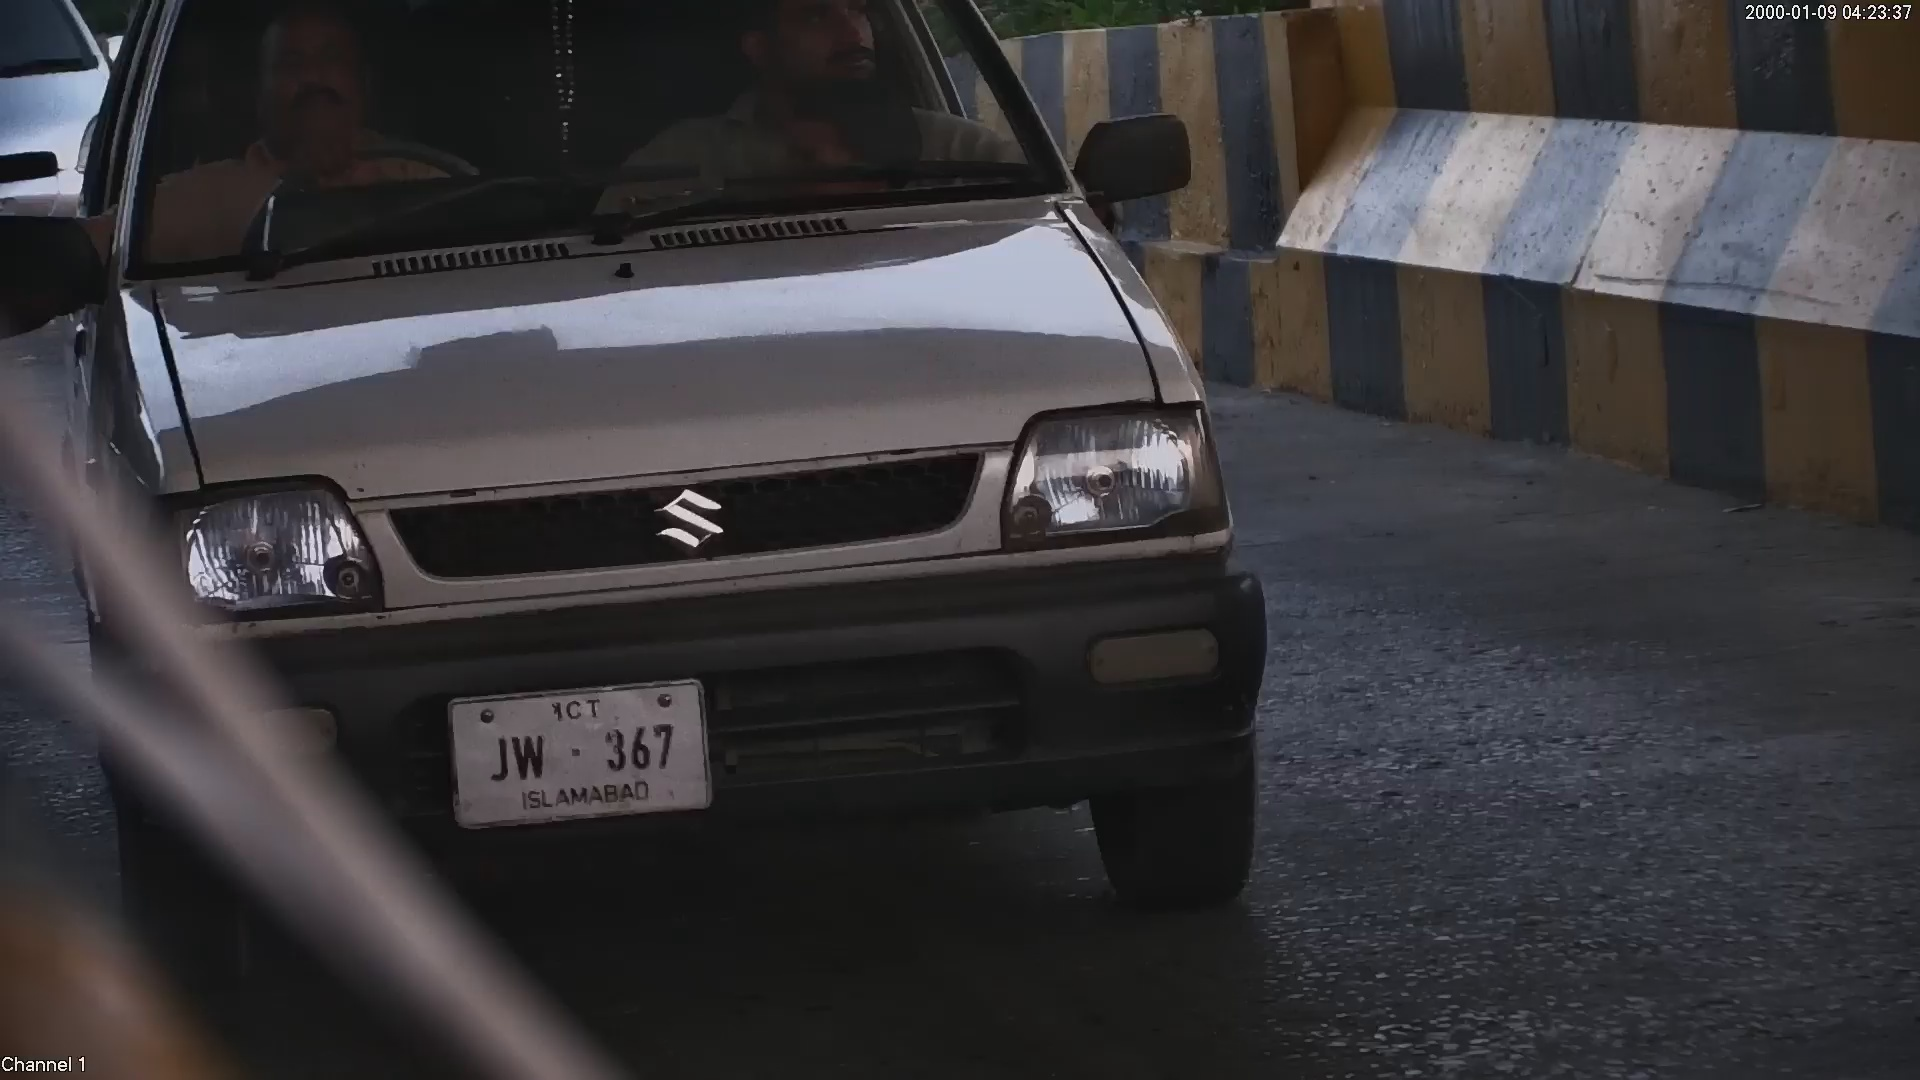Number_Plate: (426, 670, 721, 827)
Undefined: (169, 481, 371, 620), (997, 420, 1208, 542), (1065, 618, 1228, 692), (641, 477, 721, 546)
